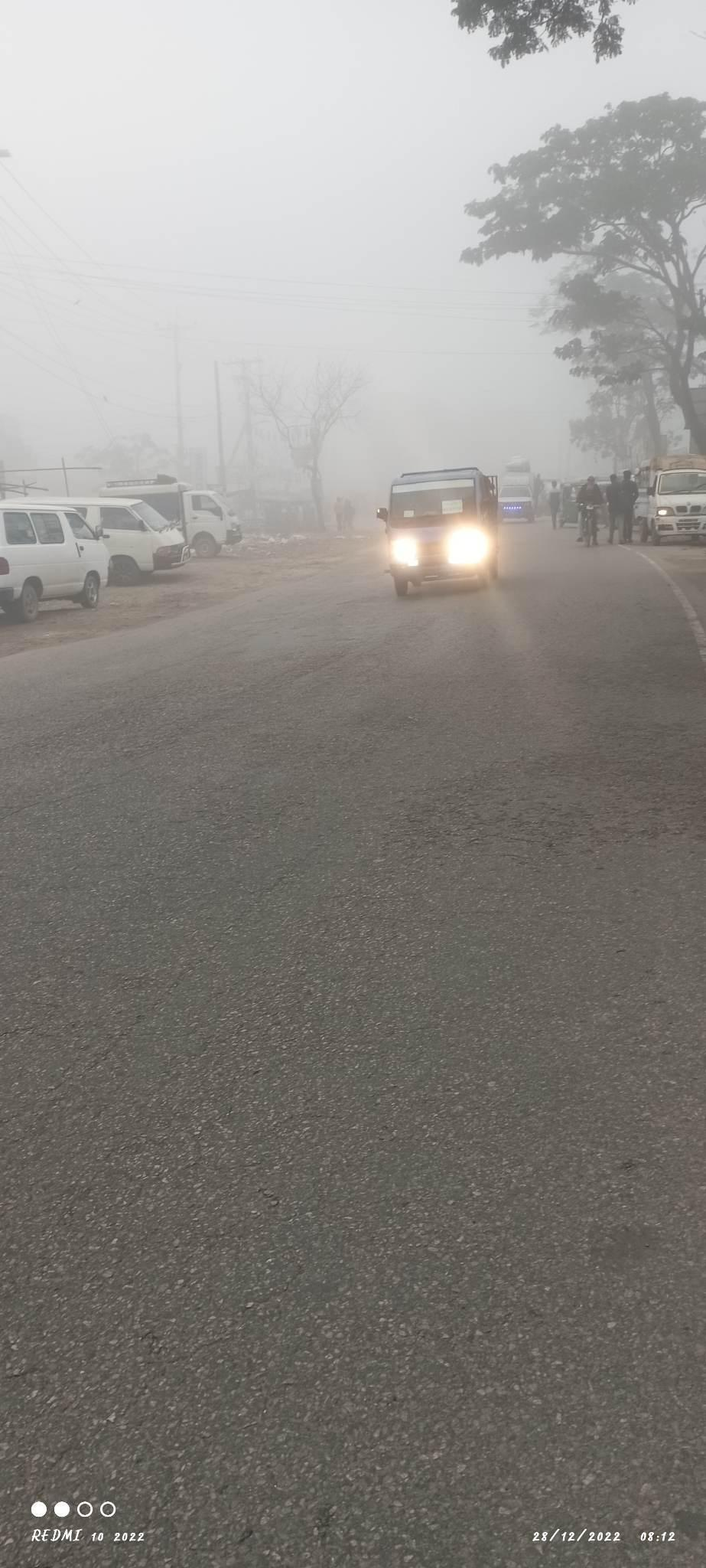Car: (39, 474, 185, 596), (3, 487, 115, 635), (626, 455, 704, 557), (499, 456, 556, 540)
Truck: (367, 445, 509, 622)
